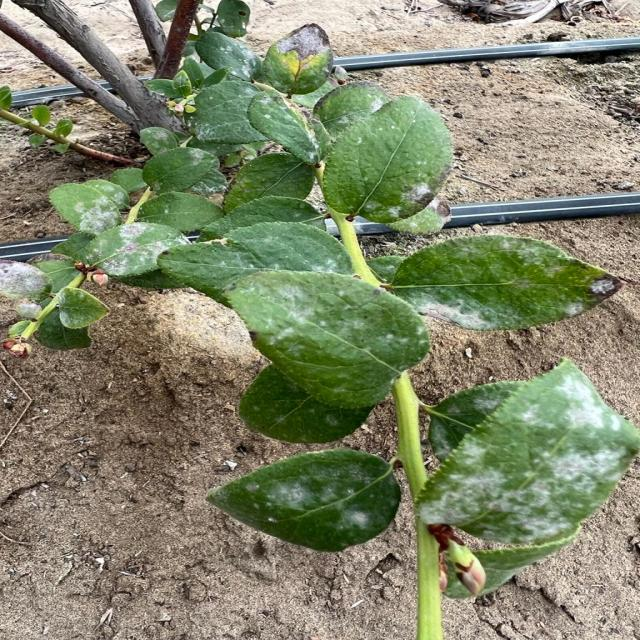Hojas con oidiosis: (445, 370, 617, 560), (378, 242, 602, 325), (242, 274, 372, 364), (244, 469, 392, 536), (357, 105, 437, 202), (102, 222, 184, 270)
